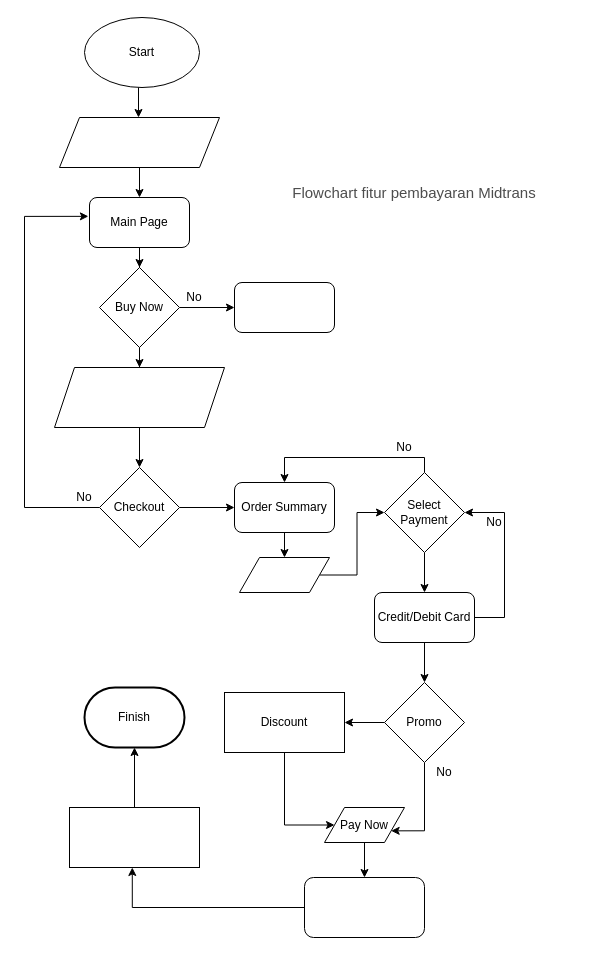
Some shapes in this 607 by 955 pixel diagram are drawn without their labels. Here are the shapes that lost their labels. From the top down, the centre of each, then its label:
the point at 139,142: Open Page demo.midtrans.com
the point at 284,307: Sign Up Page
the point at 139,397: Input Shopping Cart and Customer Detail
the point at 284,574: Continue
the point at 134,837: Purchase Notification
the point at 364,907: OTP Credit/Debit Card
